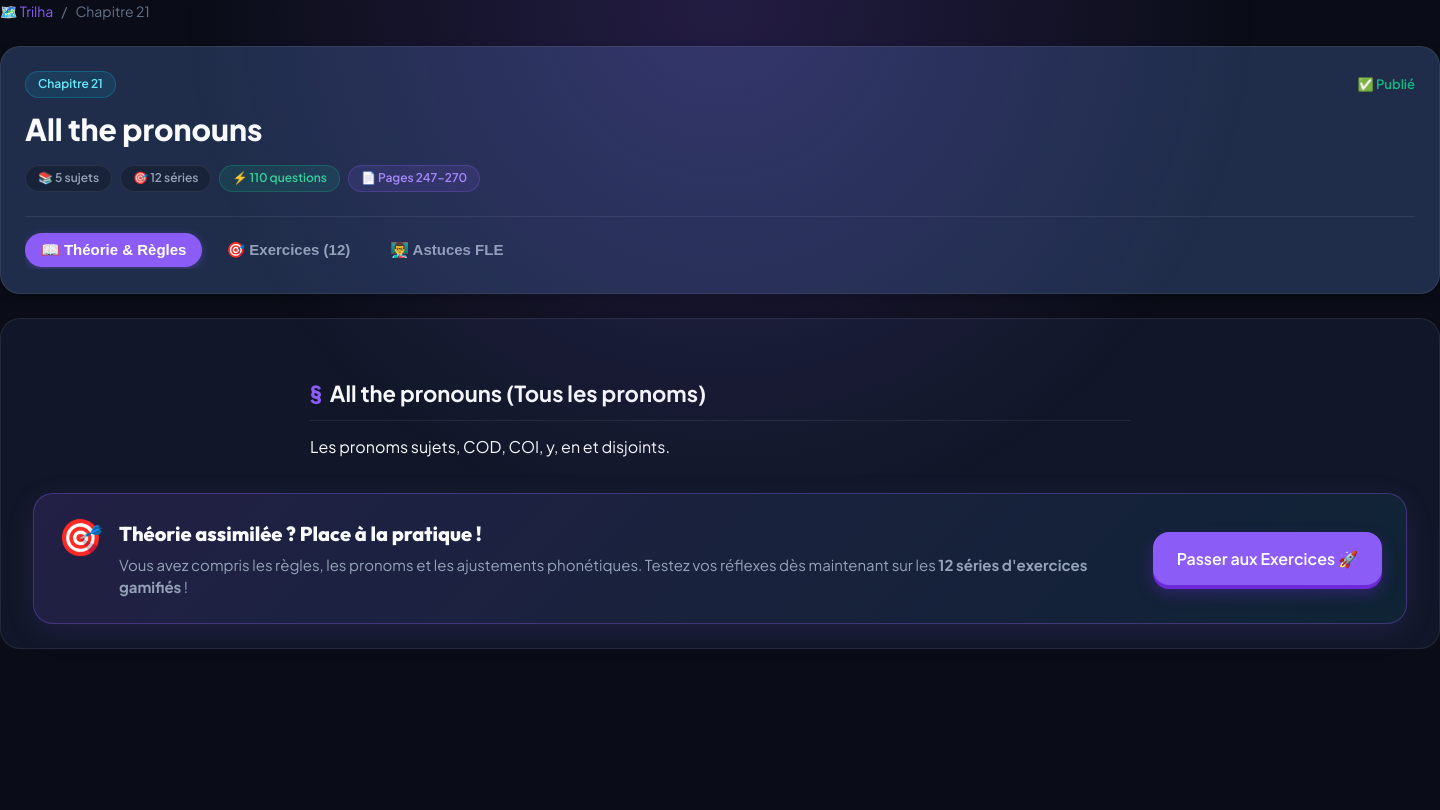
Test: ChapterPage Component › affiche la théorie, les 12 séries d exercices et les astuces FLE pour le chapitre 21 (All the pronouns)
The width and height of the screenshot is (1440, 810).
Expected: the heading "All the pronouns" is shown, [25,110,262,148]
Expected: the text "Les pronoms sujets, COD, COI, y, en et disjoints." is shown, [310,436,670,457]
Note: Passage à l'onglet Exercices (12)
Click the tab "🎯 Exercices (12)".
click(288, 250)  # box [210,233,366,267]
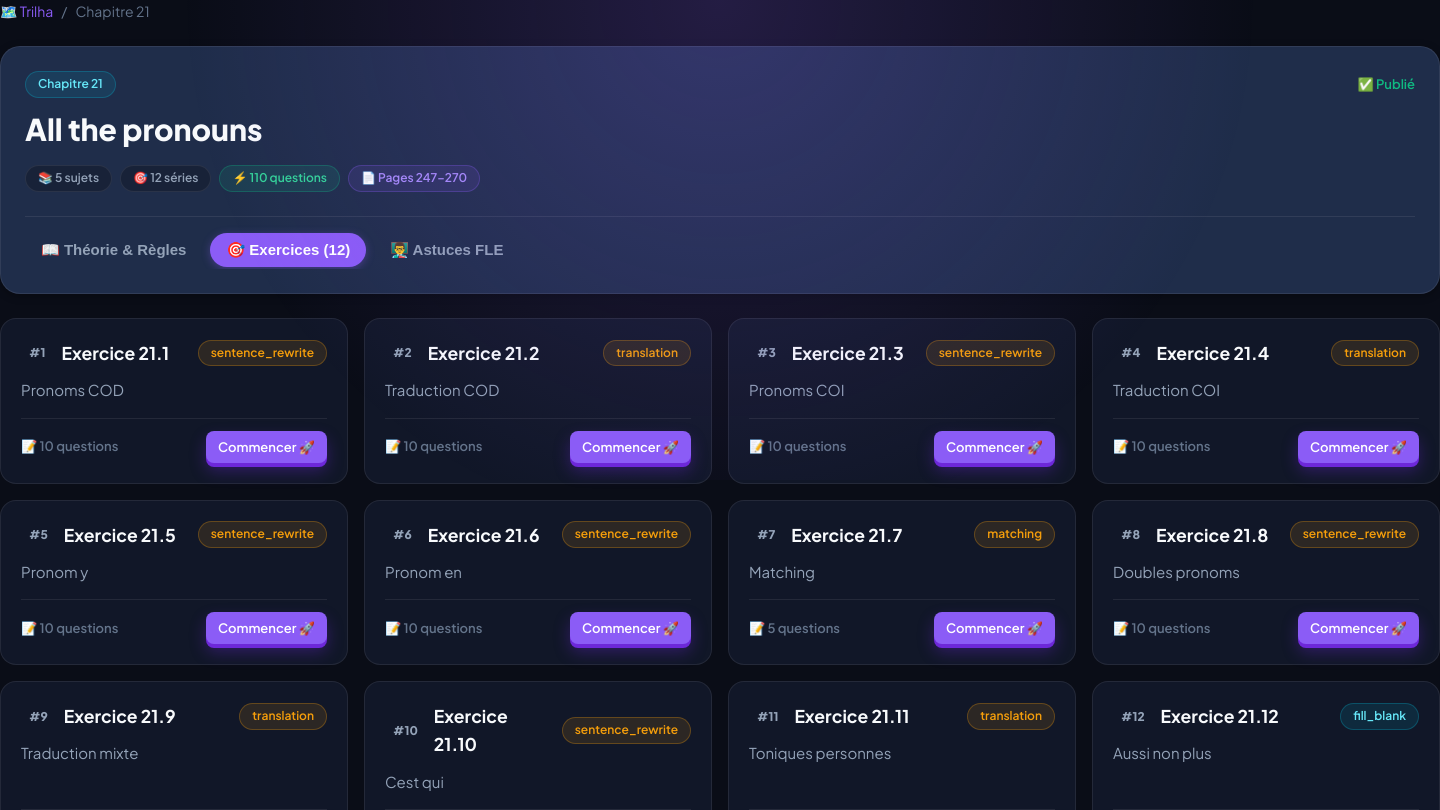
Expected: the heading "Exercice 21.1" is shown, [62,339,169,367]
Expected: the heading "Exercice 21.7" is shown, [791,521,902,549]
Expected: the heading "Exercice 21.12" is shown, [1161,702,1279,730]
Note: Passage à l'onglet Astuces FLE
Click the tab "👨‍🏫 Astuces FLE".
click(447, 250)  # box [374,233,520,267]
(page scrolled)
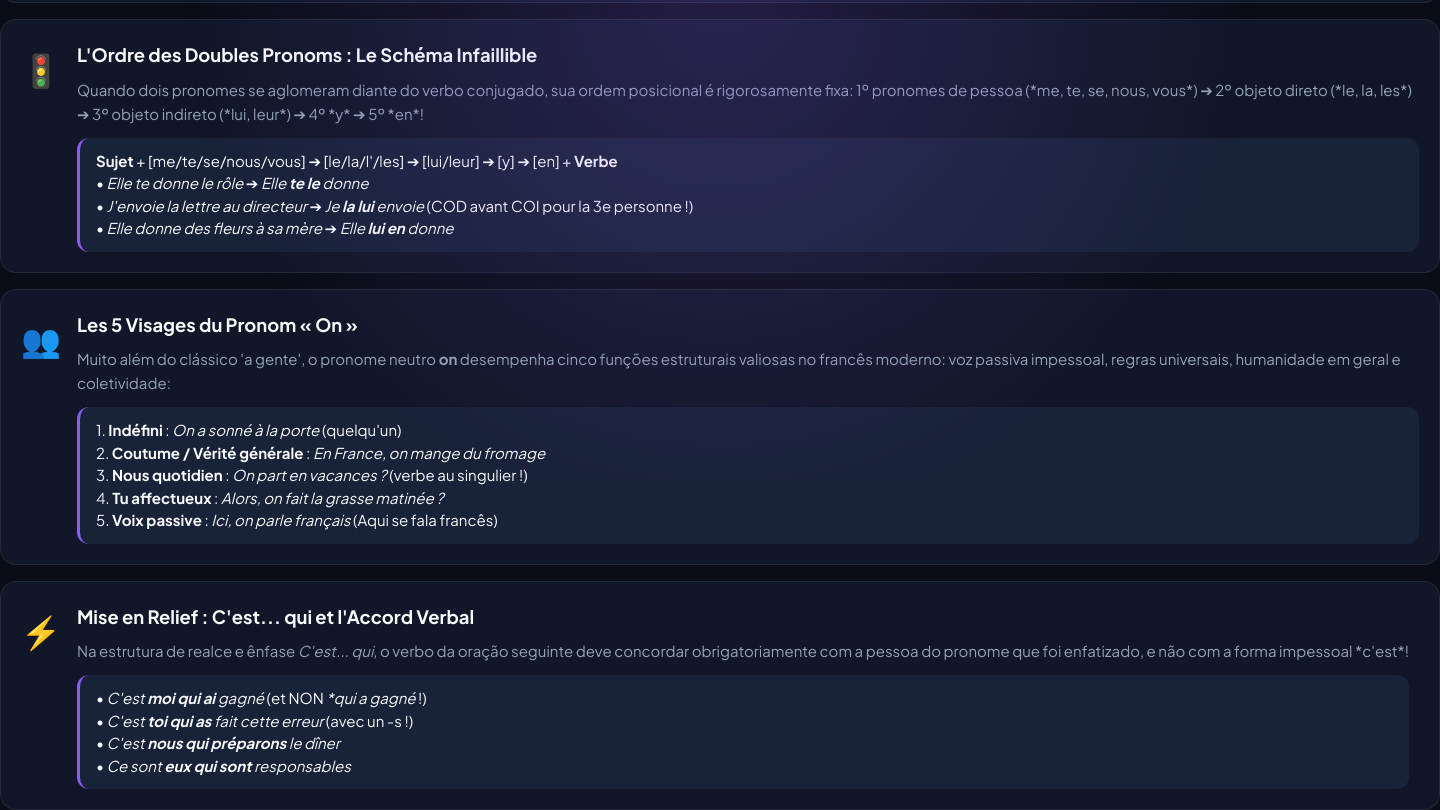
Expected: the heading "L'Ordre des Doubles Pronoms : Le Schéma Infaillible" is shown, [77,43,537,66]
Expected: the heading "Les 5 Visages du Pronom « On »" is shown, [77,313,358,336]
Expected: the heading "Mise en Relief : C'est... qui et l'Accord Verbal" is shown, [77,605,474,628]
